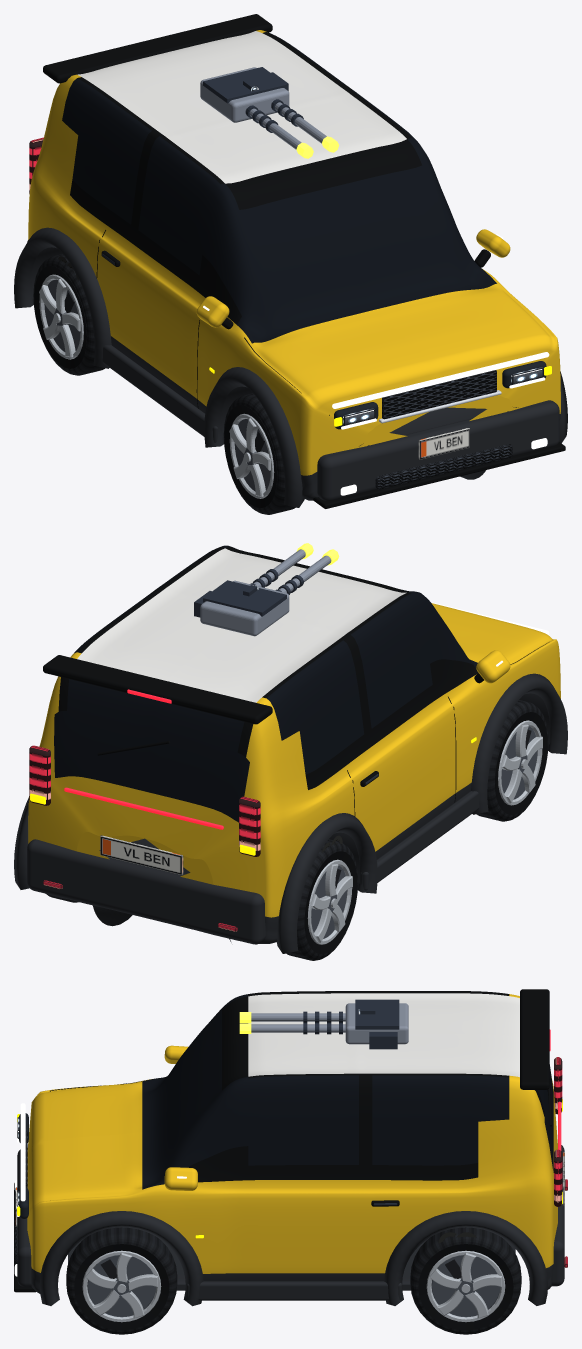
The model's file is bento_ev.glb.
The picture shows the model from 3 angles, top to bottom: view 1: azimuth 30°, elevation 25°; view 2: azimuth 150°, elevation 25°; view 3: azimuth 270°, elevation 25°; orthographic projection. The views are drawn at different scales.
Parts seen in each view (by area): view 1: chassis, wheel_FR, wheel_RR, gun; view 2: chassis, wheel_FR, wheel_RR, gun; view 3: chassis, wheel_FL, wheel_RL, gun.
Boxes of the visible parts, box(x1,y1,x2,y2) form: chassis: box(14, 14, 567, 508); wheel_FR: box(223, 393, 295, 514); wheel_RR: box(33, 254, 105, 375); gun: box(200, 67, 339, 158); chassis: box(14, 545, 567, 953); wheel_FR: box(476, 700, 548, 821); wheel_RR: box(276, 839, 358, 960); gun: box(194, 543, 339, 636); chassis: box(14, 989, 567, 1306); wheel_FL: box(66, 1227, 177, 1334); wheel_RL: box(410, 1227, 521, 1334); gun: box(239, 999, 408, 1049).
Size of the model in its own units: 1.9 by 1.86 by 3.34.
25 materials, 6 textured.
